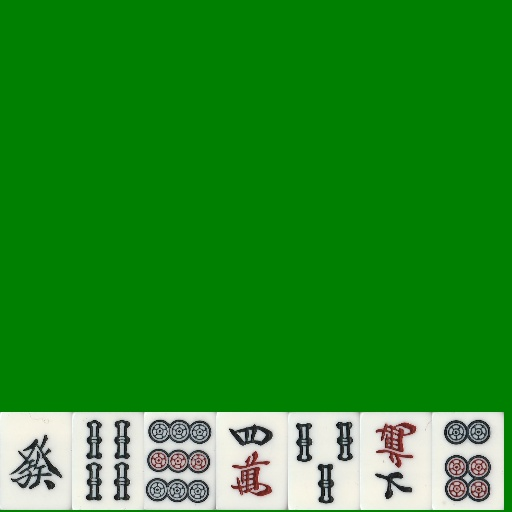3s: (288, 412, 360, 510)
4m: (216, 412, 288, 510)
4s: (72, 412, 144, 510)
6p: (432, 412, 504, 510)
7m: (360, 412, 432, 510)
9p: (144, 412, 216, 510)
hatsu: (0, 412, 72, 510)
